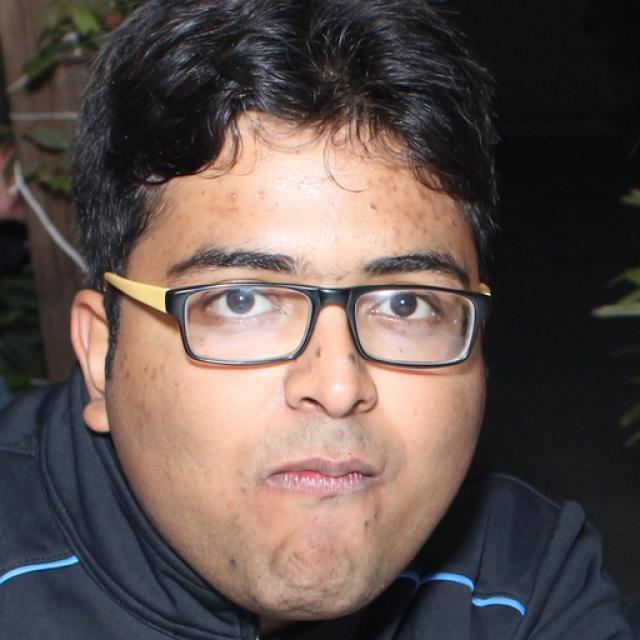neutral: (109, 111, 489, 615)
